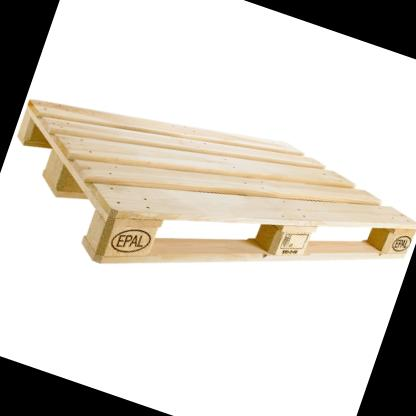BoxFace: (14, 99, 416, 267)
